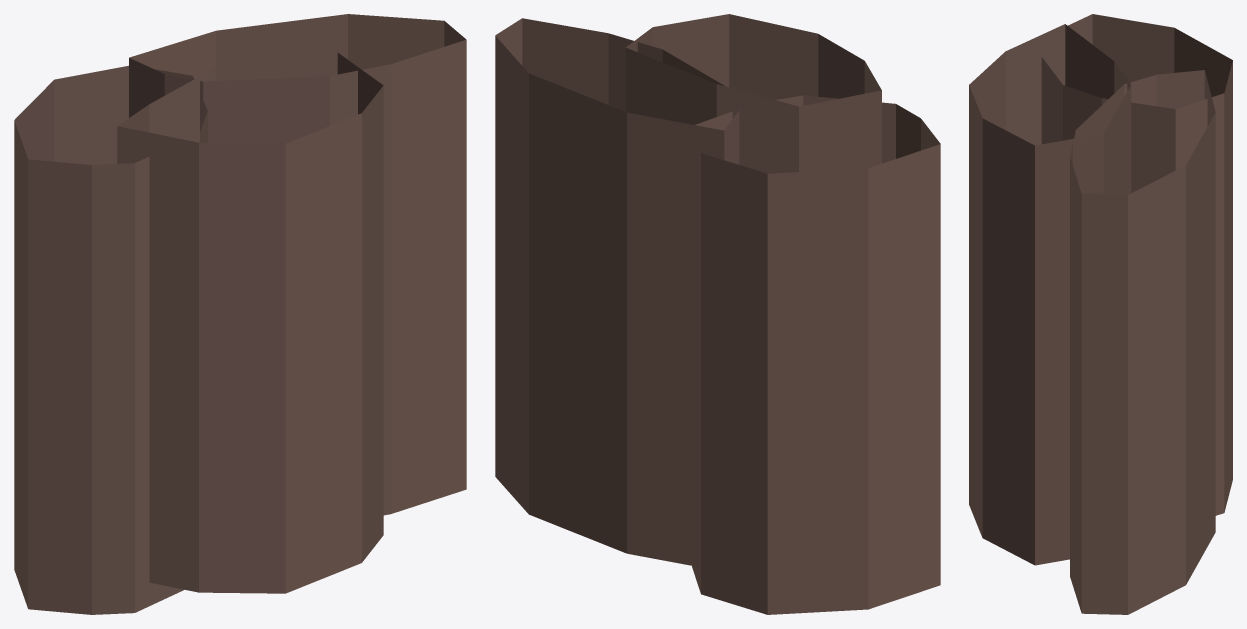
The picture shows the model from 3 angles, left to right: view 1: azimuth 30°, elevation 25°; view 2: azimuth 150°, elevation 25°; view 3: azimuth 270°, elevation 25°; orthographic projection. The views are drawn at different scales.
Visible parts, largest first — view 1: stone03.007; view 2: stone03.007; view 3: stone03.007.
Part boxes in pixels (x1,y1,x2,y2): stone03.007: (14,14,466,614); stone03.007: (495,14,940,614); stone03.007: (969,14,1232,614).
Bounding box in the file's own units: 4230 × 4417 × 2379.
